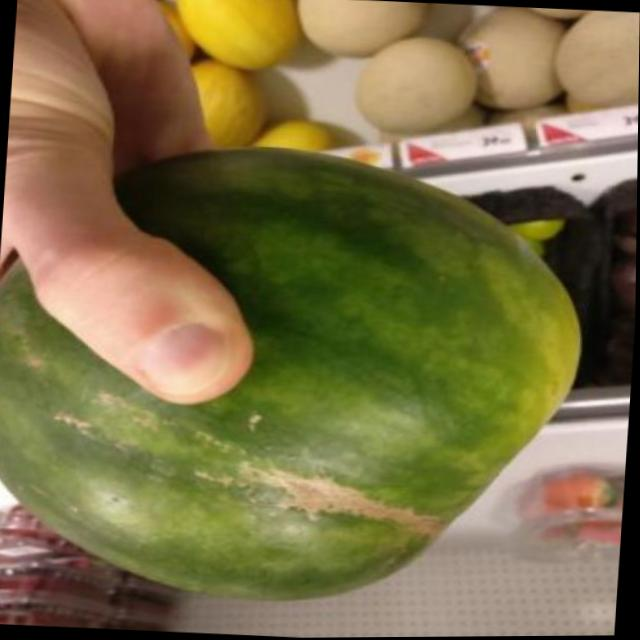Cantaloupe: (356, 31, 482, 137), (453, 3, 568, 112), (553, 8, 640, 108), (291, 0, 430, 59)
Strawberries: (515, 467, 626, 559)
Watermelon: (0, 130, 593, 617)
